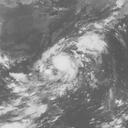cyclone: (37, 38, 91, 94)
